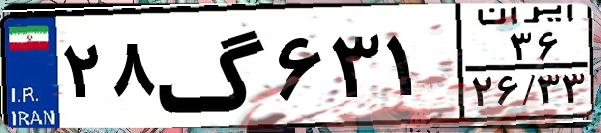1: (385, 28, 445, 110)
2: (57, 26, 110, 100), (470, 70, 495, 125)
3: (330, 28, 385, 110), (560, 70, 590, 125), (508, 27, 537, 80), (535, 70, 560, 125)
6: (270, 28, 330, 110), (537, 27, 568, 80), (495, 70, 520, 125)
8: (110, 28, 156, 98)
گ: (156, 12, 270, 120)
